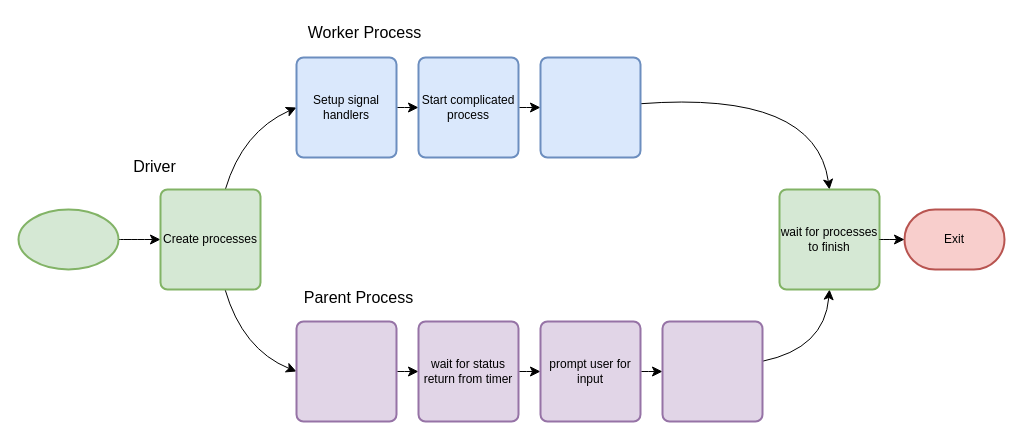
The diagram is 1022 pixels wide and 439 high, and some of its shapes have lost their labels. Here are the shapes that lost their labels. From the top down, the centre of each, then its label:
At point (590, 107): "exit cleanly".
At point (68, 239): "Start".
At point (346, 371): "Start timer".
At point (712, 371): "kill or continue worker process".
